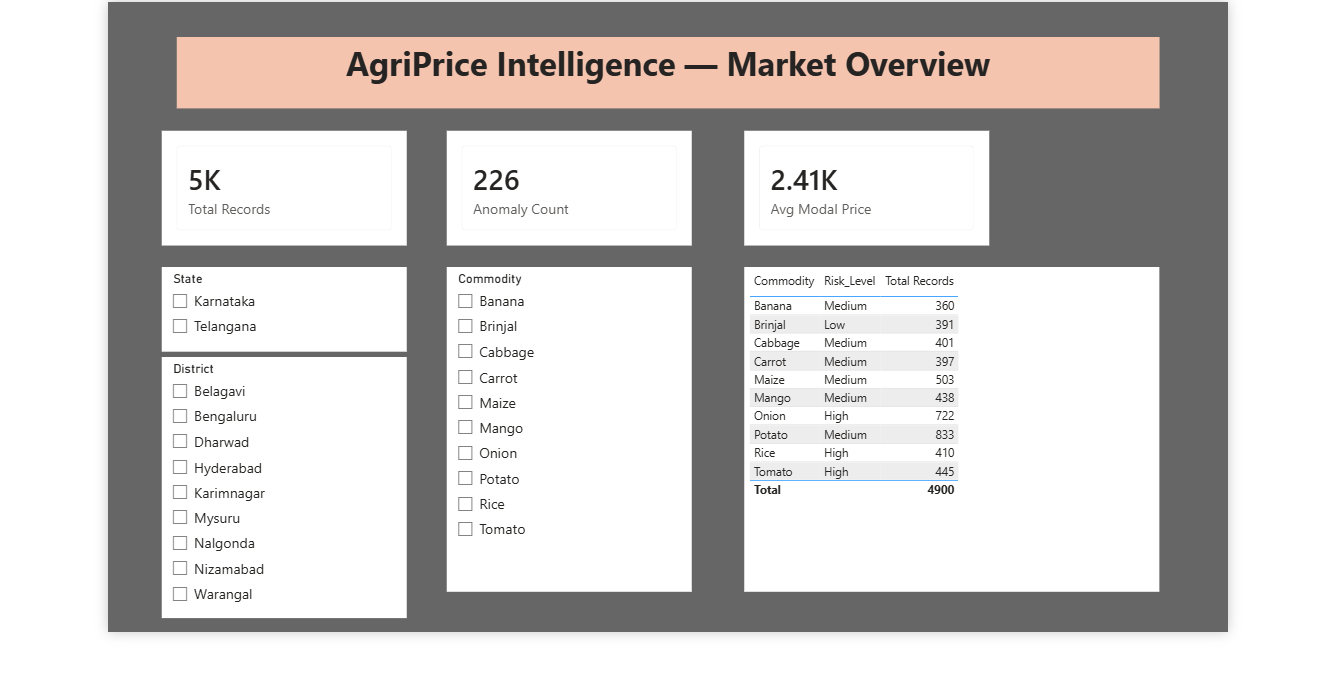

What the dashboard file says about the page in this screenshot:
{"tool":"powerbi","page":{"name":"Overview","canvas":[1280,720],"ordinal":0},"visuals":[{"type":"cardVisual","fields":{"Data":["agripriceintelligence_powerbi.Total Records"]},"box":[61.4,147.1,280,131.4],"z":0},{"type":"cardVisual","fields":{"Data":["agripriceintelligence_powerbi.Anomaly Count"]},"box":[387.1,147.1,280,131.4],"z":1},{"type":"cardVisual","fields":{"Data":["agripriceintelligence_powerbi.Avg Modal Price"]},"box":[727.1,147.1,280,131.4],"z":2},{"type":"tableEx","fields":{"Values":["agripriceintelligence_powerbi.Commodity","agripriceintelligence_powerbi.Risk_Level","agripriceintelligence_powerbi.Total Records"]},"box":[727.1,302.9,474.3,371.4],"z":3},{"type":"slicer","fields":{"Values":["agripriceintelligence_powerbi.Commodity"]},"box":[387.1,302.9,280,371.4],"z":4},{"type":"slicer","fields":{"Values":["agripriceintelligence_powerbi.District"]},"box":[61.4,405.7,280,298.6],"z":5},{"type":"slicer","fields":{"Values":["agripriceintelligence_powerbi.State"]},"box":[61.4,302.9,280,97.1],"z":6},{"type":"textbox","box":[78.6,40,1122.9,81.4],"z":7}]}

Visuals, with their boxes on the page's 1280x720 design canvas (x1, y1, x2, y2). These are canvas units, not pixel positions in the 1327x681 screenshot, which may show the page scaled, cropped or inside an application window:
cardVisual - agripriceintelligence_powerbi.Total Records: box(61, 147, 341, 278)
cardVisual - agripriceintelligence_powerbi.Anomaly Count: box(387, 147, 667, 278)
cardVisual - agripriceintelligence_powerbi.Avg Modal Price: box(727, 147, 1007, 278)
tableEx - agripriceintelligence_powerbi.Commodity x agripriceintelligence_powerbi.Risk_Level: box(727, 303, 1201, 674)
slicer - agripriceintelligence_powerbi.Commodity: box(387, 303, 667, 674)
slicer - agripriceintelligence_powerbi.District: box(61, 406, 341, 704)
slicer - agripriceintelligence_powerbi.State: box(61, 303, 341, 400)
textbox: box(79, 40, 1202, 121)
